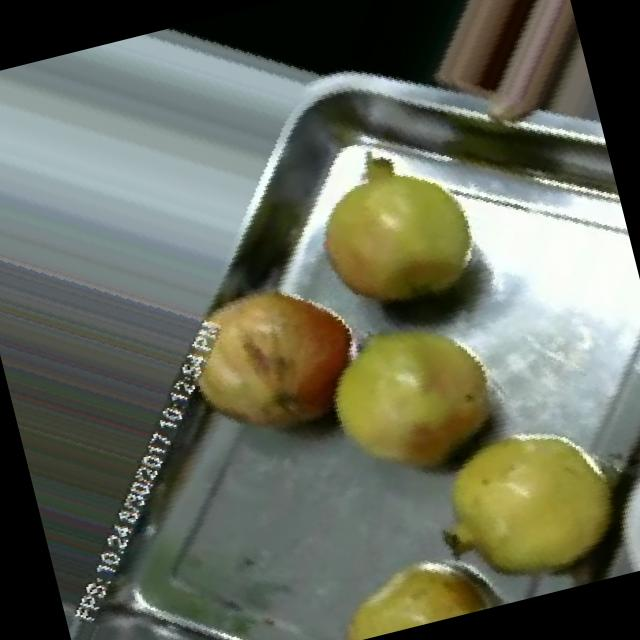fruit: (140, 232, 398, 472), (286, 276, 532, 516), (274, 117, 521, 355), (397, 382, 640, 619), (288, 515, 510, 640)
